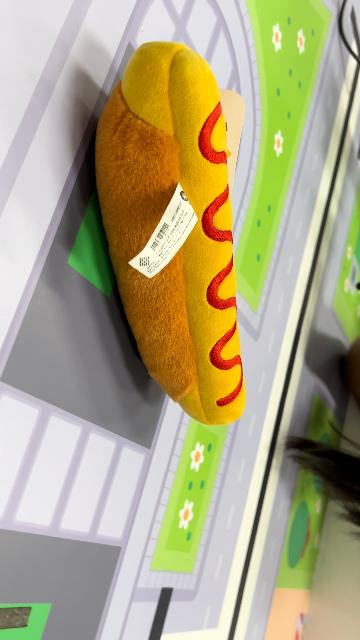hotdog: (94, 40, 248, 428)
